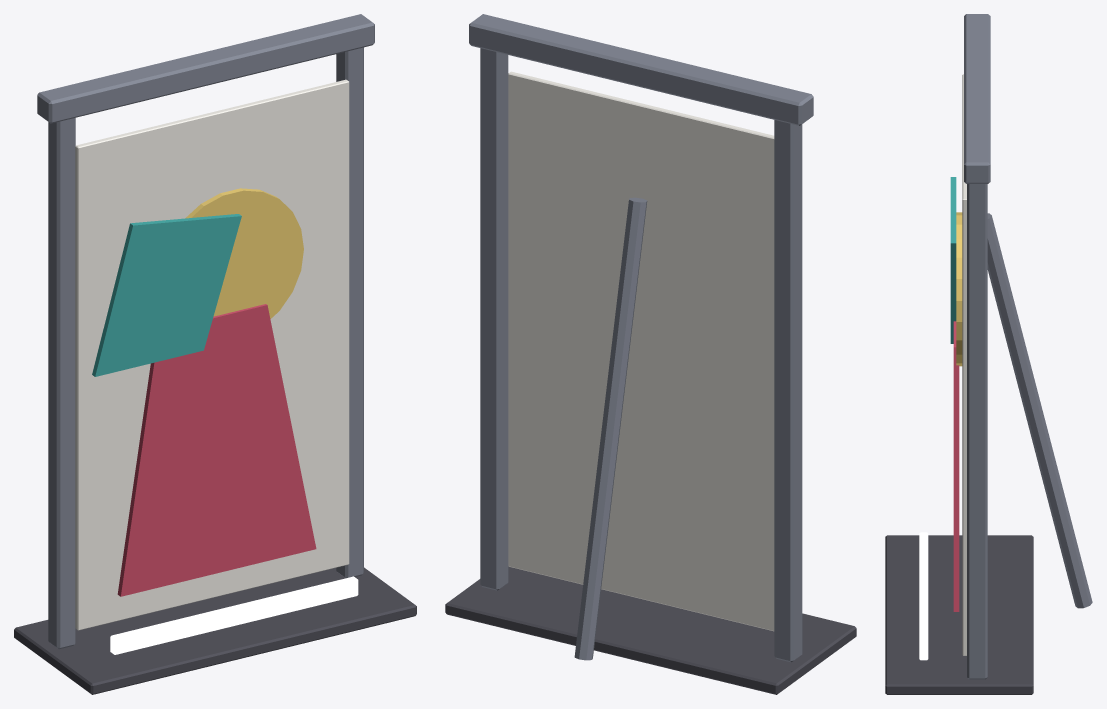
File: cinema-multiplex-and-foyer-standee-display-frame-2dcb261a__34682.glb
3 renders of one model, left to right at view 1: azimuth 30°, elevation 25°; view 2: azimuth 150°, elevation 25°; view 3: azimuth 270°, elevation 25°, orthographic. The views are drawn at different scales.
Visible parts, largest first — view 1: standee-display-frame; view 2: standee-display-frame; view 3: standee-display-frame.
Boxes of the visible parts, left/top/right/bottom form: standee-display-frame: left=14, top=14, right=416, bottom=694; standee-display-frame: left=445, top=14, right=856, bottom=694; standee-display-frame: left=885, top=14, right=1092, bottom=694.
Size of the model in its own units: 1.2 by 1.98 by 0.6991.
